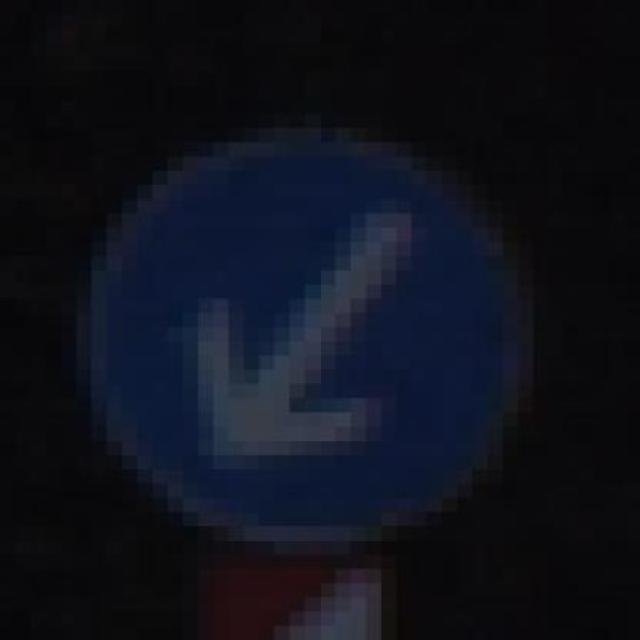Keep-Left: (76, 86, 564, 554)
